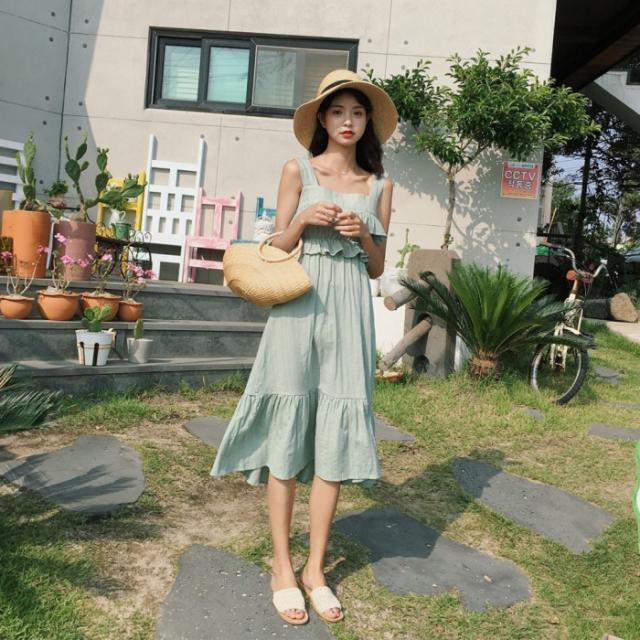clothes: (208, 156, 393, 484)
